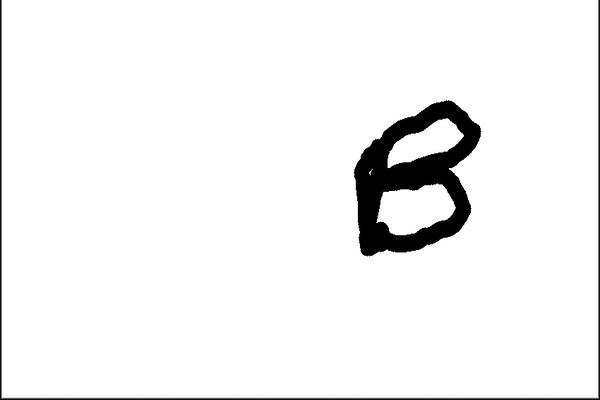B: (346, 91, 492, 261)
